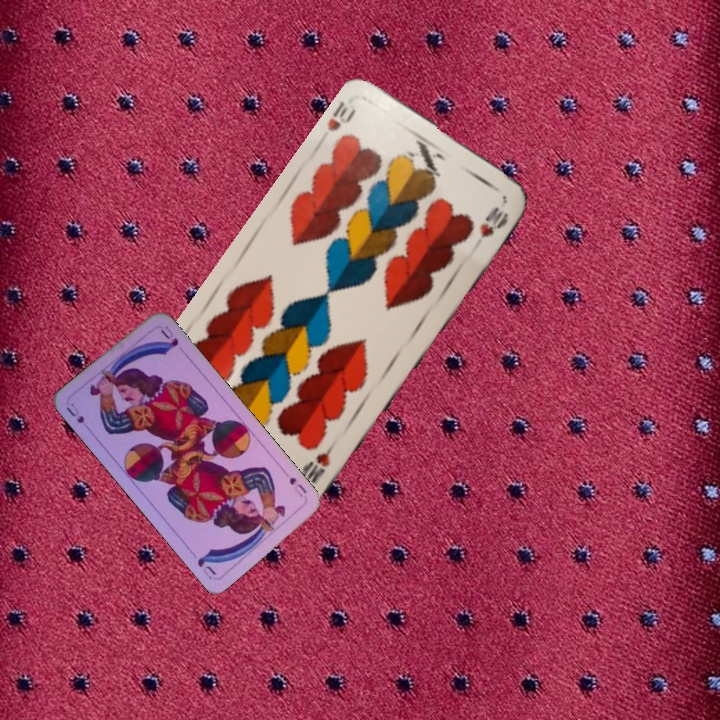H10: (299, 435, 340, 486), (323, 97, 359, 134)
SU: (62, 399, 94, 434), (285, 473, 310, 500)
